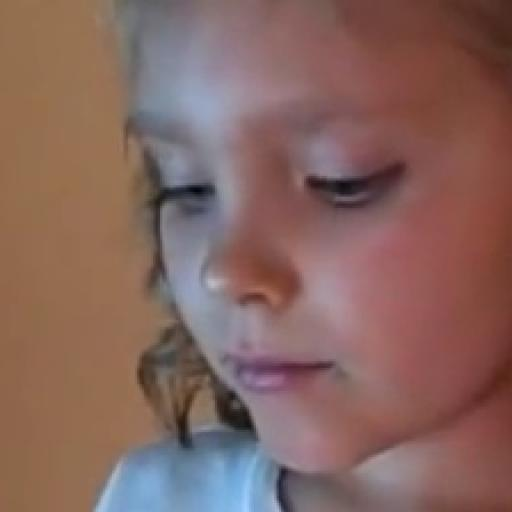Autism: (118, 0, 512, 494)
